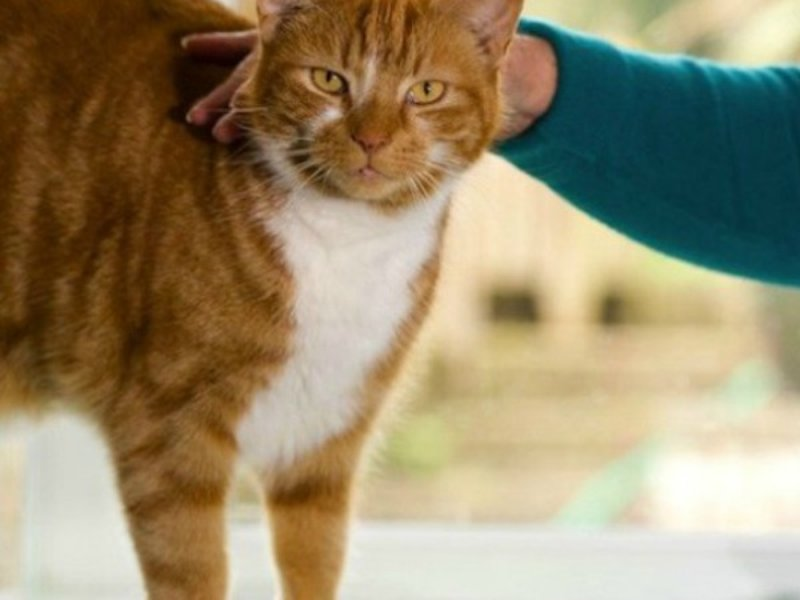cat: (2, 3, 523, 582)
